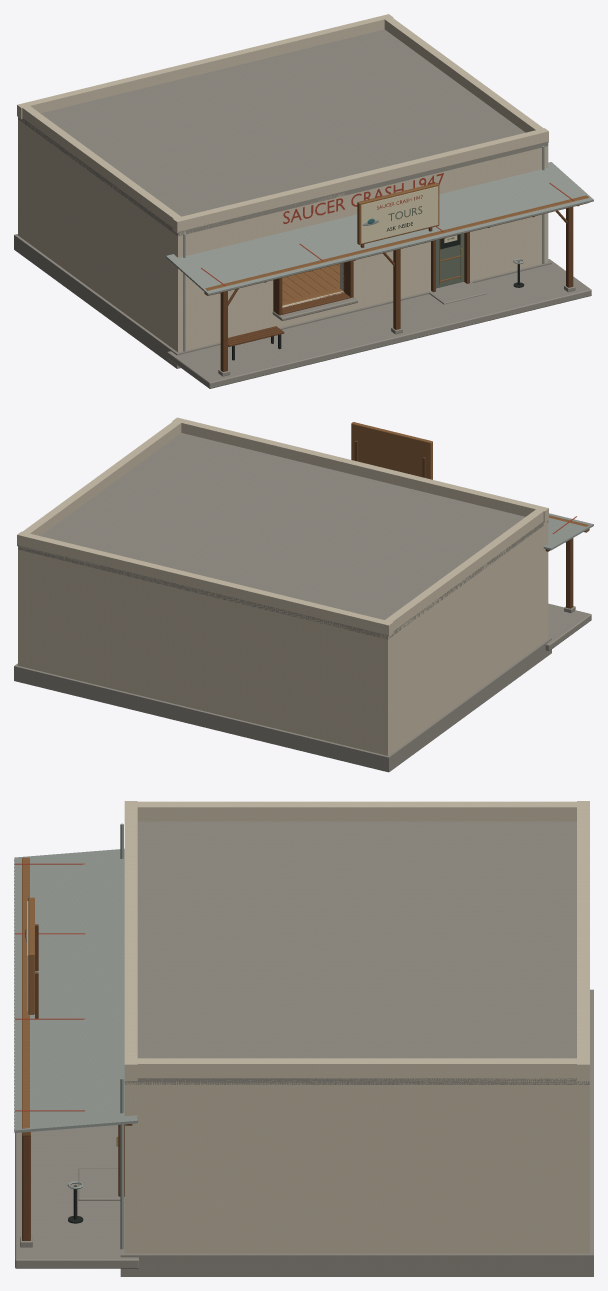
The model's file is SM_Souvenir_Shell.fbx.
The picture shows the model from 3 angles, top to bottom: view 1: azimuth 30°, elevation 25°; view 2: azimuth 150°, elevation 25°; view 3: azimuth 270°, elevation 25°; orthographic projection. The views are drawn at different scales.
Parts seen in each view (by area): view 1: SM_Souvenir_Shell; view 2: SM_Souvenir_Shell; view 3: SM_Souvenir_Shell.
Boxes of the visible parts, x1,y1,x2,y2 form: SM_Souvenir_Shell: (14,14,593,388); SM_Souvenir_Shell: (14,417,593,772); SM_Souvenir_Shell: (14,801,593,1276).
Size of the model in its own units: 12.5 by 11.22 by 4.71.
